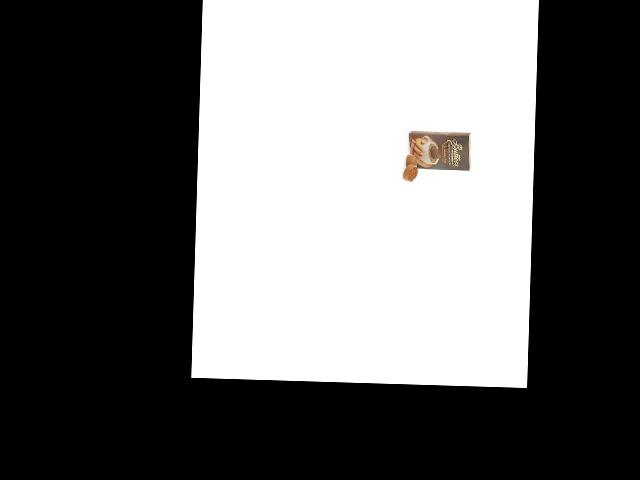chocolate: (405, 128, 473, 176)
